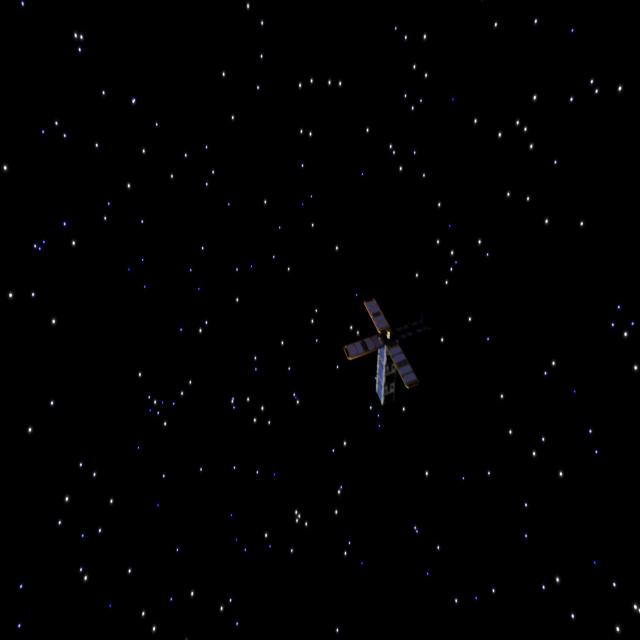satellite: (335, 292, 429, 419)
